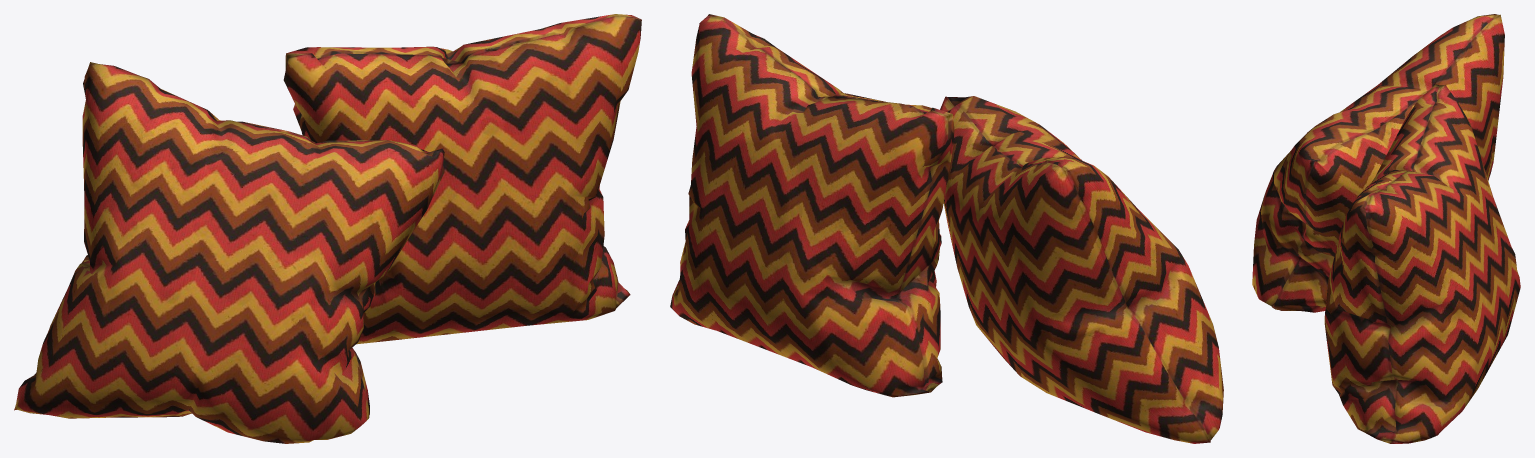
The picture shows the model from 3 angles, left to right: view 1: azimuth 30°, elevation 25°; view 2: azimuth 150°, elevation 25°; view 3: azimuth 270°, elevation 25°; orthographic projection. The views are drawn at different scales.
Visible parts, largest first — view 1: throw_pillows_01_pillow01, throw_pillows_01_pillow02; view 2: throw_pillows_01_pillow02, throw_pillows_01_pillow01; view 3: throw_pillows_01_pillow02, throw_pillows_01_pillow01.
Part boxes in pixels (x1=…): throw_pillows_01_pillow01: x1=14, y1=62, x2=444, y2=443; throw_pillows_01_pillow02: x1=283, y1=14, x2=641, y2=344; throw_pillows_01_pillow02: x1=670, y1=14, x2=954, y2=397; throw_pillows_01_pillow01: x1=940, y1=96, x2=1223, y2=443; throw_pillows_01_pillow02: x1=1324, y1=84, x2=1520, y2=443; throw_pillows_01_pillow01: x1=1252, y1=14, x2=1504, y2=312.
Size of the model in its own units: 0.9342 by 0.4499 by 0.4502.
Materials: 1 (1 with a texture image).
